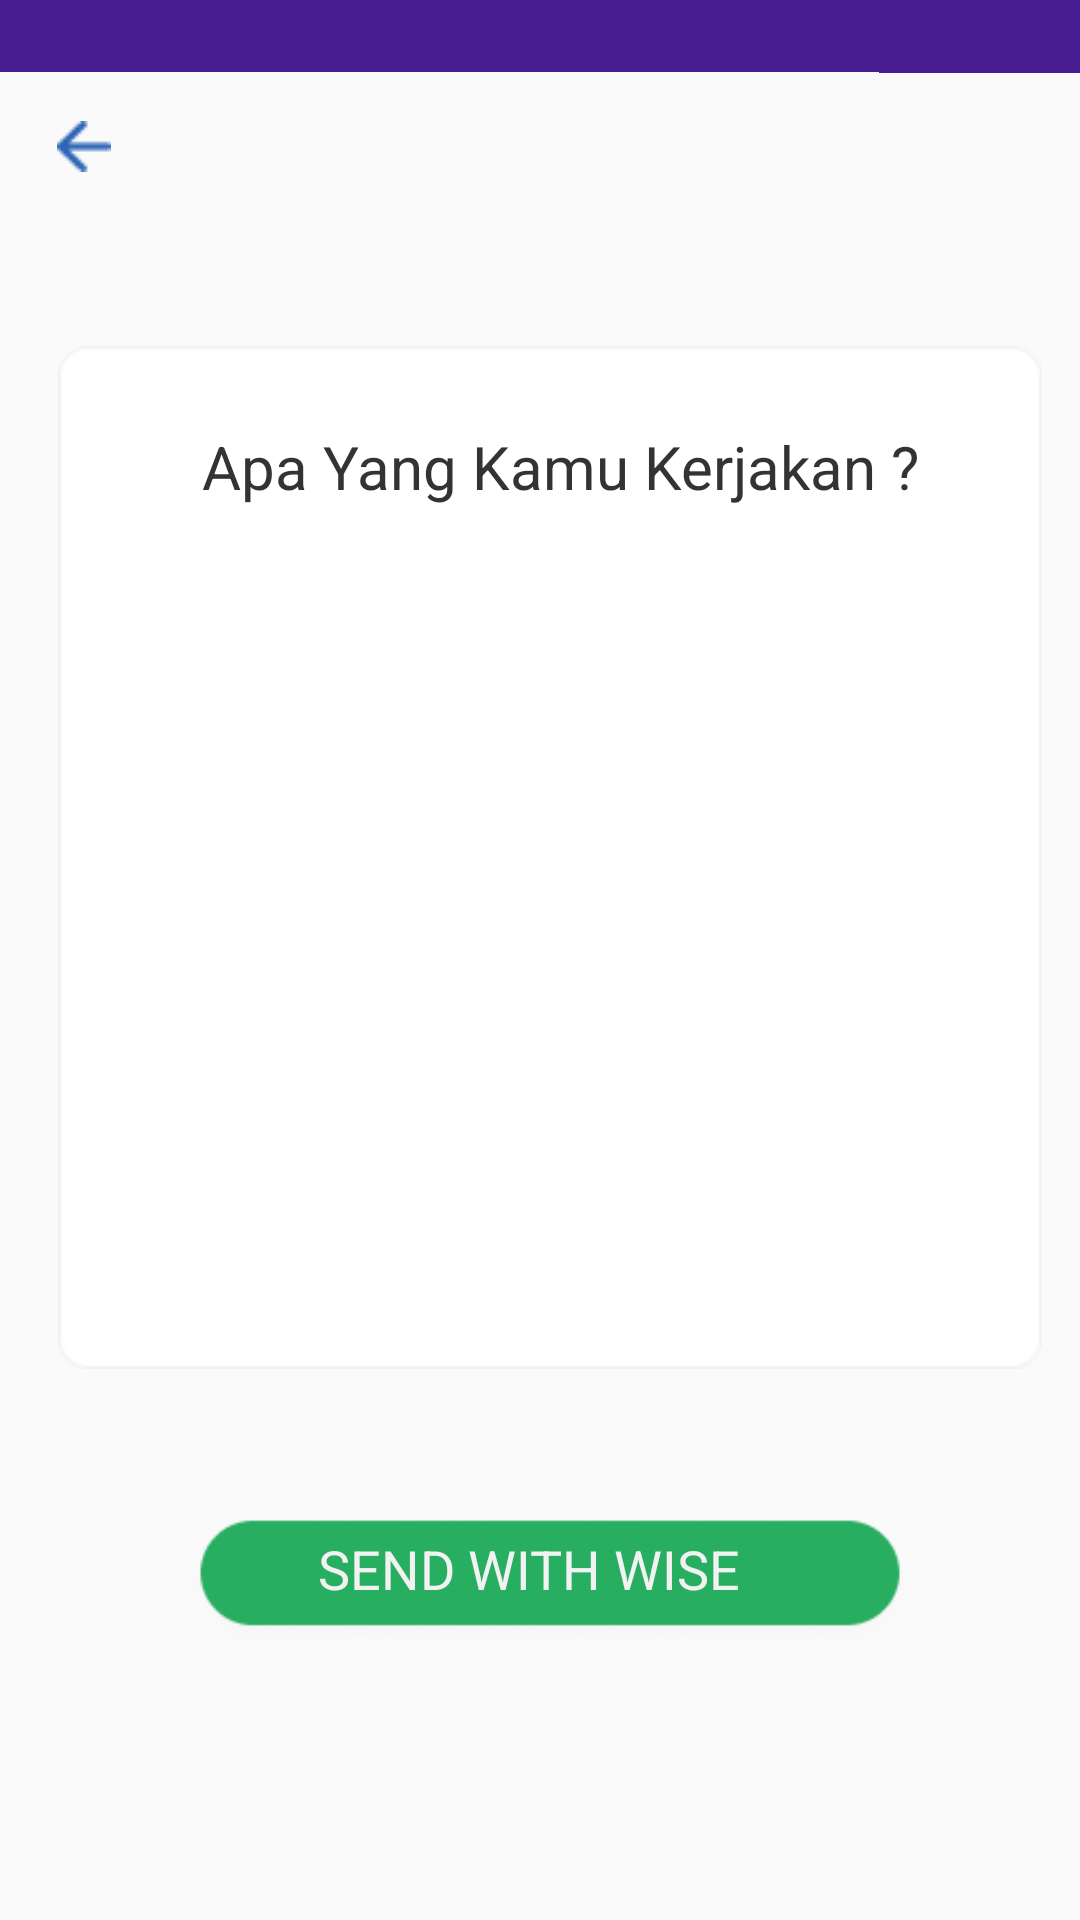

Named icons in this screenshot (1080x1920) and their centers, point (x, y):
panah: point (84, 146)
